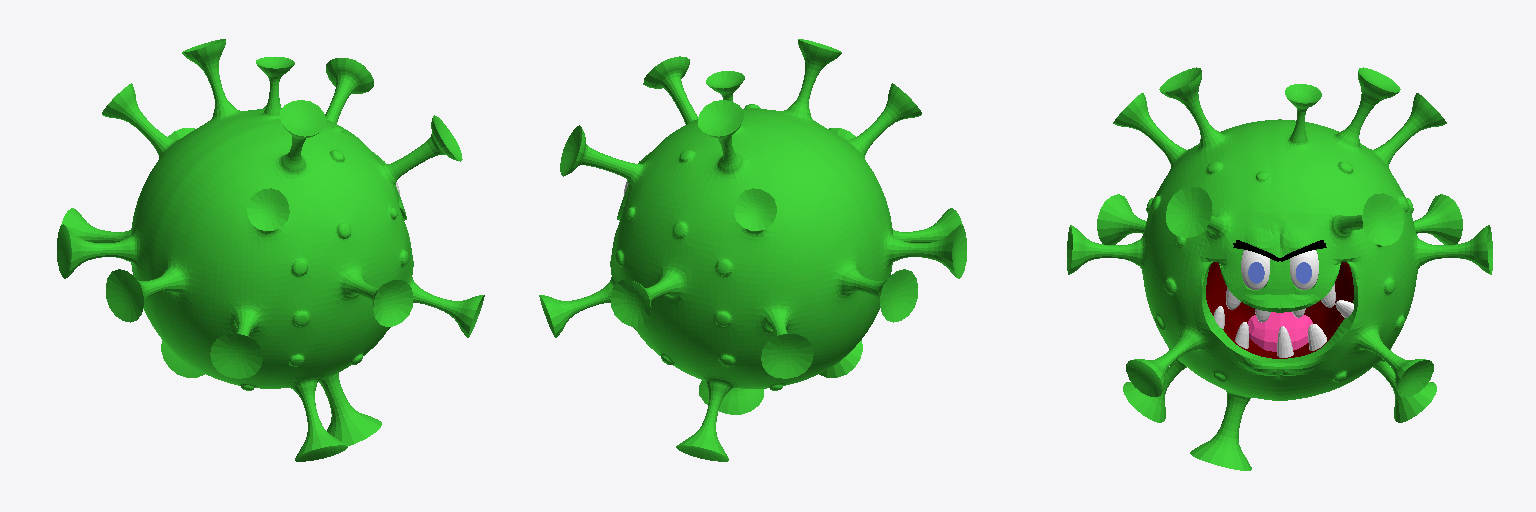
The picture shows the model from 3 angles: view 1: azimuth 30°, elevation 25°; view 2: azimuth 150°, elevation 25°; view 3: azimuth 270°, elevation 25°; orthographic projection.
Parts seen in each view (by area): view 1: Cube_Cube.003; view 2: Cube_Cube.003; view 3: Cube_Cube.003.
Part boxes in pixels (bbox=[...]): Cube_Cube.003: bbox=[57, 39, 484, 461]; Cube_Cube.003: bbox=[539, 39, 966, 461]; Cube_Cube.003: bbox=[1067, 67, 1492, 470].
Size of the model in its own units: 2.34 by 2.45 by 2.57.
1 materials, 1 textured.